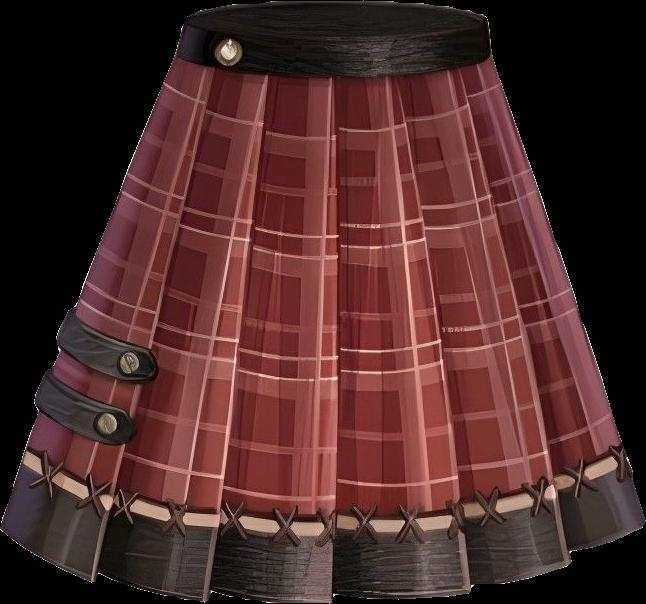Hemline: (0, 519, 645, 603)
Waistline: (170, 49, 495, 82), (184, 14, 487, 41)
